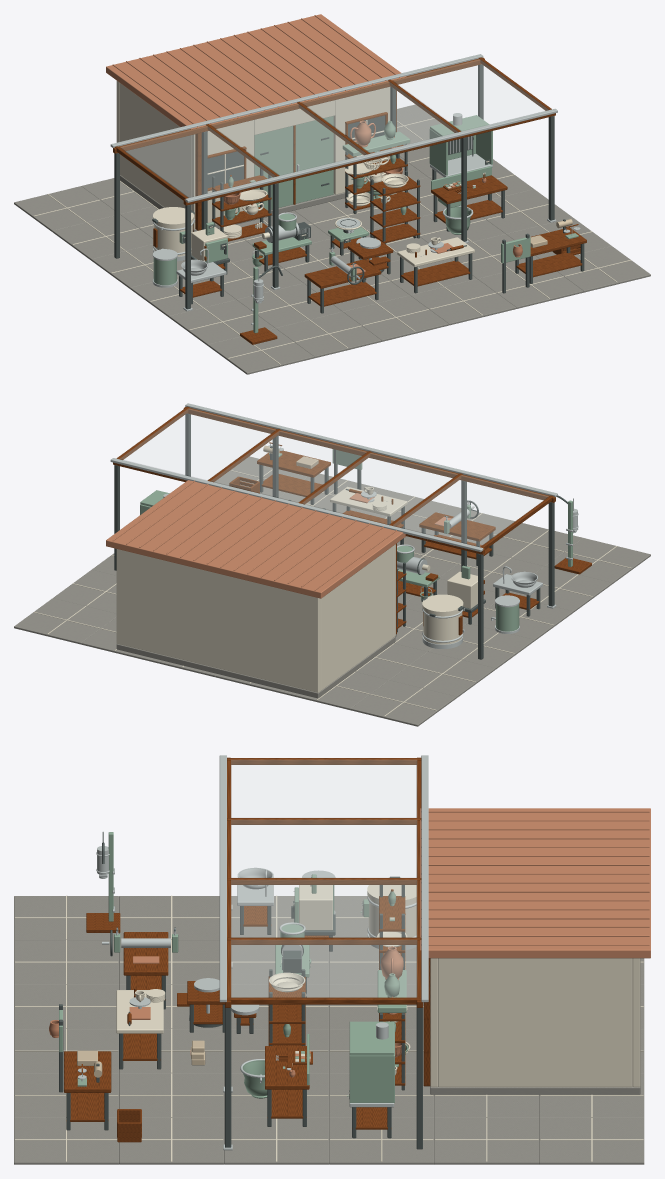
Rendered from ceramics-pottery-studio-pottery-courtyar-27e7d90f-starter-scene__29531.glb.
The picture shows the model from 3 angles, top to bottom: view 1: azimuth 30°, elevation 25°; view 2: azimuth 150°, elevation 25°; view 3: azimuth 270°, elevation 25°; orthographic projection. The views are drawn at different scales.
Visible parts, largest first — view 1: 036-studio-building/7, 036-studio-building/4, 036-studio-building/1, 036-studio-building/3, 036-studio-building/6, 036-studio-building/2, 036-studio-building/5, 011-courtyard-paving/0, 023-courtyard-paving/0, 017-courtyard-paving/0, 000-courtyard-paving/0, 004-courtyard-paving/0 (+46 smaller); view 2: 036-studio-building/1, 036-studio-building/7, 036-studio-building/4, 036-studio-building/3, 036-studio-building/5, 036-studio-building/6, 000-courtyard-paving/0, 030-courtyard-paving/0, 001-courtyard-paving/0, 005-courtyard-paving/0, 002-courtyard-paving/0, 011-courtyard-paving/0 (+23 smaller); view 3: 036-studio-building/7, 036-studio-building/4, 036-studio-building/1, 036-studio-building/3, 031-courtyard-paving/0, 030-courtyard-paving/0, 033-courtyard-paving/0, 035-courtyard-paving/0, 011-courtyard-paving/0, 028-courtyard-paving/0, 034-courtyard-paving/0, 017-courtyard-paving/0 (+42 smaller).
Boxes of the visible parts, <box> form: 036-studio-building/7: <box>120,59,548,197</box>; 036-studio-building/4: <box>106,14,406,129</box>; 036-studio-building/1: <box>116,81,390,229</box>; 036-studio-building/3: <box>113,57,555,230</box>; 036-studio-building/6: <box>114,64,554,309</box>; 036-studio-building/2: <box>254,116,333,210</box>; 036-studio-building/5: <box>110,54,557,311</box>; 011-courtyard-paving/0: <box>276,312,381,358</box>; 023-courtyard-paving/0: <box>410,279,516,325</box>; 017-courtyard-paving/0: <box>343,295,448,341</box>; 000-courtyard-paving/0: <box>14,186,114,232</box>; 004-courtyard-paving/0: <box>169,300,274,345</box>; 036-studio-building/1: <box>116,544,395,692</box>; 036-studio-building/7: <box>120,408,548,546</box>; 036-studio-building/4: <box>106,480,405,598</box>; 036-studio-building/3: <box>113,406,555,634</box>; 036-studio-building/5: <box>110,403,557,608</box>; 036-studio-building/6: <box>114,413,554,659</box>; 000-courtyard-paving/0: <box>350,680,456,726</box>; 030-courtyard-paving/0: <box>14,598,116,644</box>; 001-courtyard-paving/0: <box>390,652,495,697</box>; 005-courtyard-paving/0: <box>545,538,650,584</box>; 002-courtyard-paving/0: <box>428,623,534,669</box>; 011-courtyard-paving/0: <box>493,523,583,566</box>; 036-studio-building/7: <box>231,760,416,997</box>; 036-studio-building/4: <box>420,808,650,958</box>; 036-studio-building/1: <box>430,958,640,1087</box>; 036-studio-building/3: <box>225,757,430,1086</box>; 031-courtyard-paving/0: <box>434,1118,539,1164</box>; 030-courtyard-paving/0: <box>539,1118,644,1164</box>; 033-courtyard-paving/0: <box>224,1118,329,1164</box>; 035-courtyard-paving/0: <box>14,1118,118,1164</box>; 011-courtyard-paving/0: <box>14,940,118,984</box>; 028-courtyard-paving/0: <box>119,1073,223,1117</box>; 034-courtyard-paving/0: <box>119,1118,223,1164</box>; 017-courtyard-paving/0: <box>14,985,118,1029</box>.
Bounding box in the file's own units: 12 × 3.25 × 12.12.
Materials: 9 (2 with a texture image).
